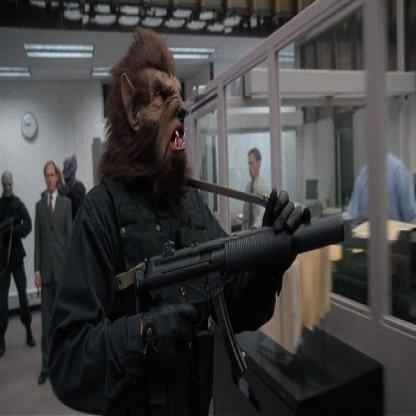Guns: (132, 211, 345, 379), (0, 212, 19, 235)
